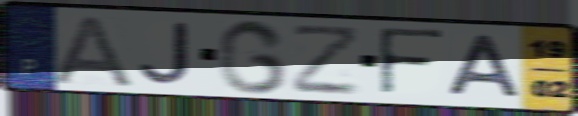A: (44, 12, 137, 89), (446, 33, 526, 101)
F: (375, 25, 448, 100)
G: (216, 17, 290, 96)
J: (135, 20, 194, 87)
Z: (290, 24, 363, 96)
